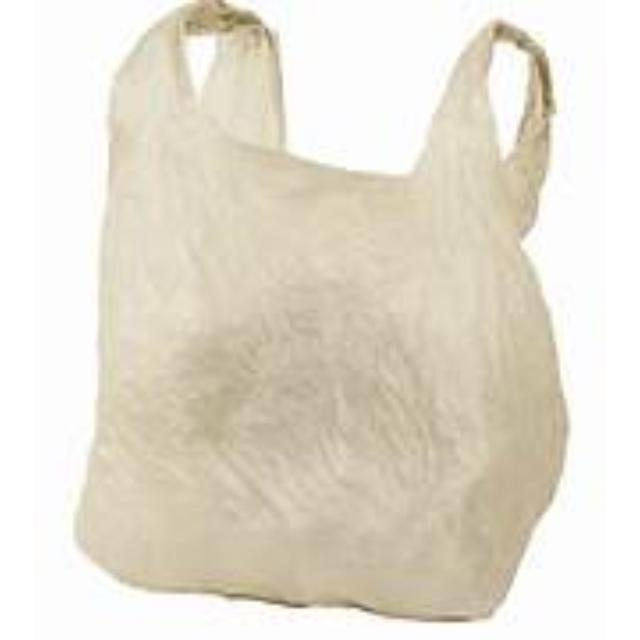Bolsa-de-plastico: (71, 0, 571, 624)
